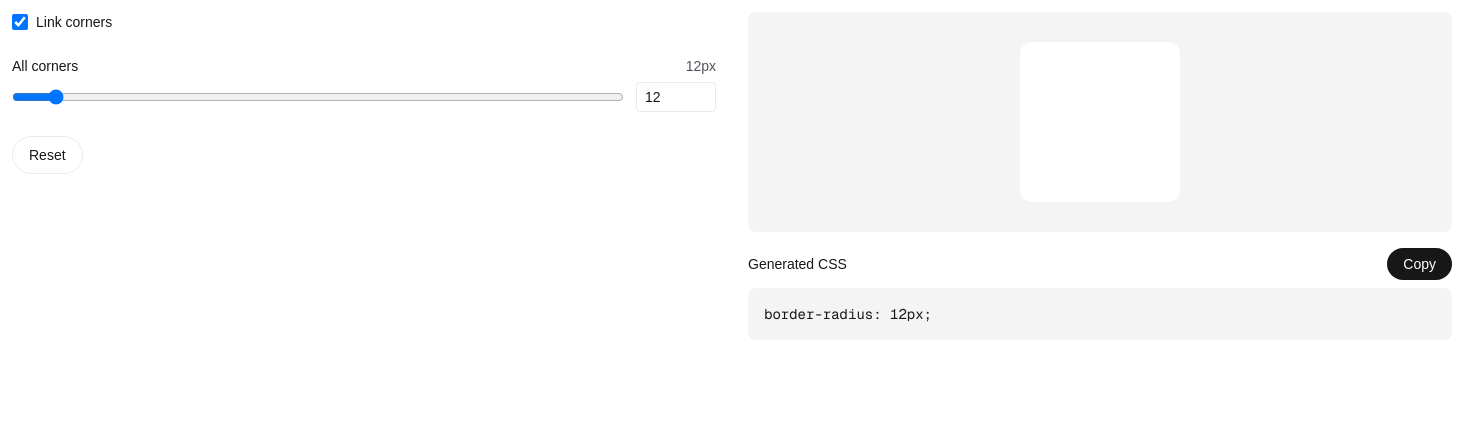
it: BorderRadiusGenerator › resets to defaults after a change
The width and height of the screenshot is (1464, 431).
Step 1. Click the checkbox named "Link corners" → (20,22), box x1=12 y1=14 x2=28 y2=30
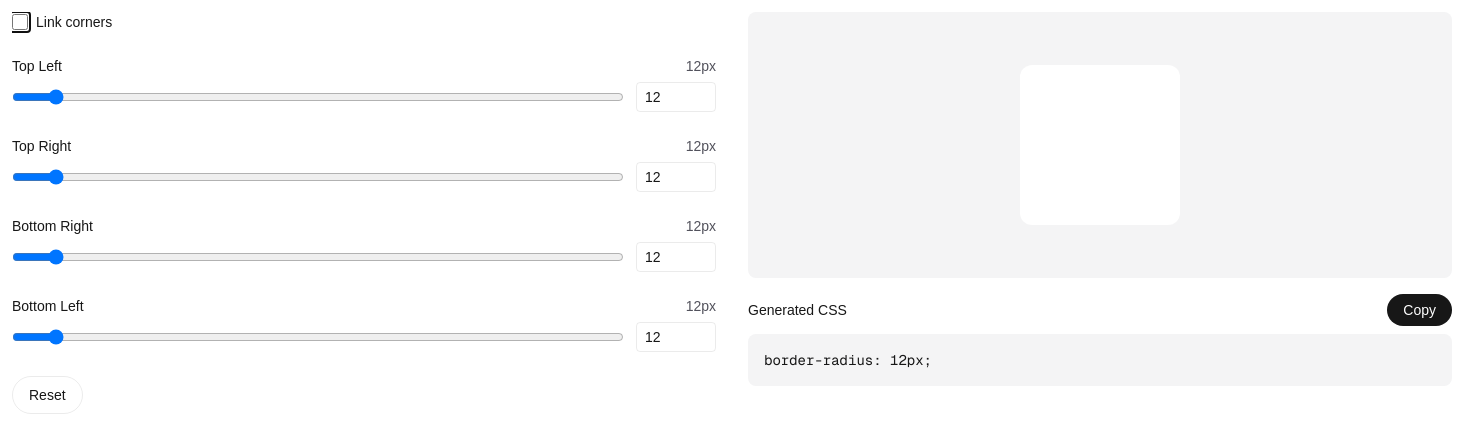
Step 2. Set the slider labelled "Top Left" to "80" → (258,97), box x1=12 y1=89 x2=624 y2=105
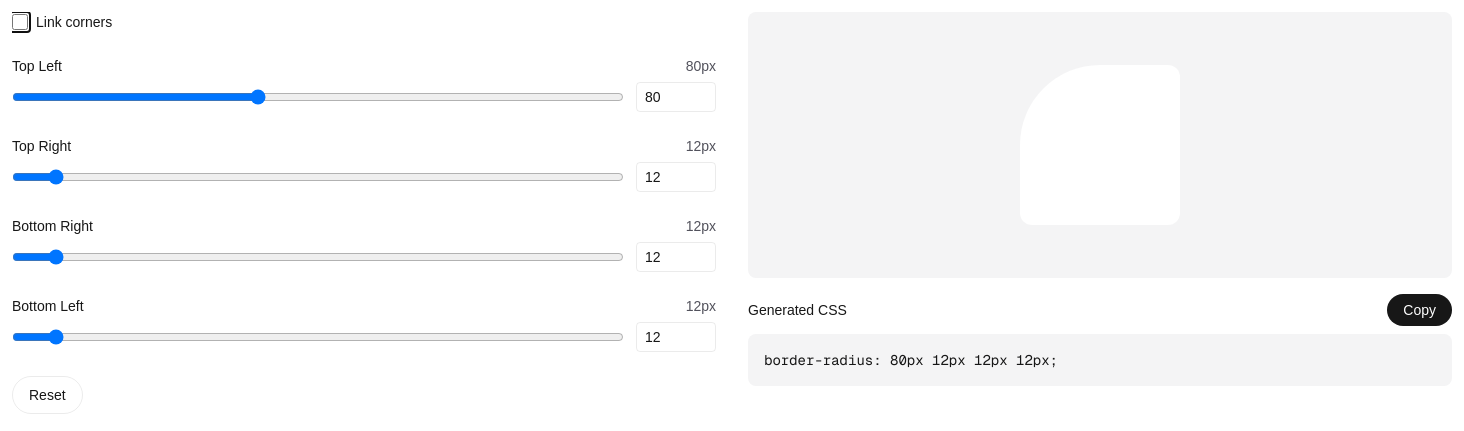
Step 3. Click the button "Reset" → (47,395), box x1=12 y1=376 x2=83 y2=414
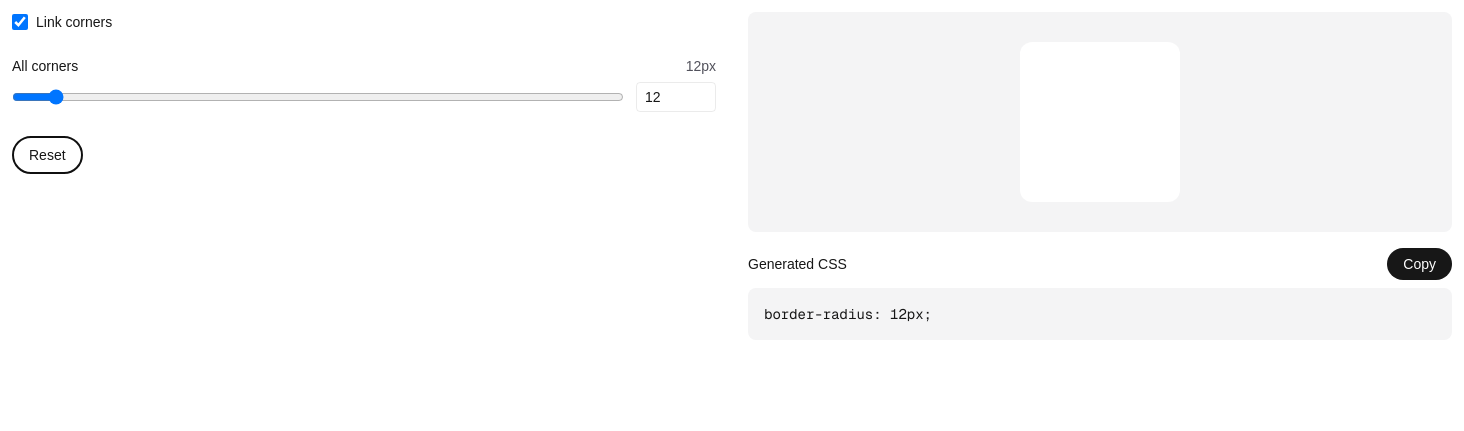
Check: the text "border-radius: 12px;" is shown, box x1=748 y1=288 x2=1452 y2=340
